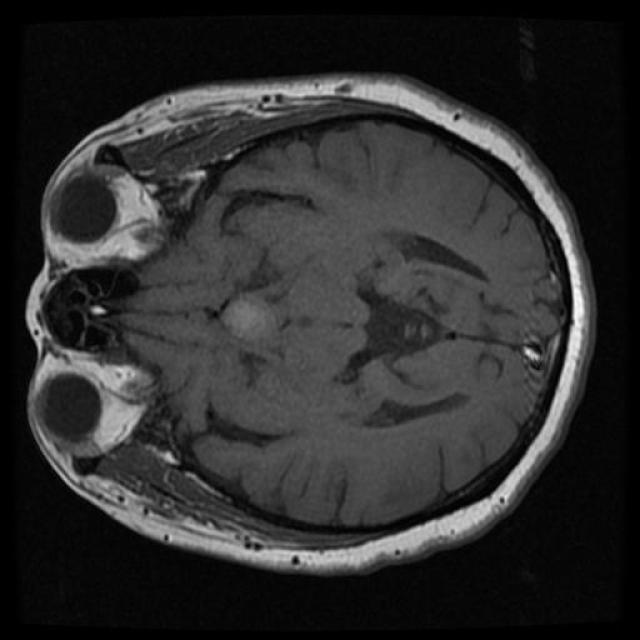Pituitary: (221, 296, 276, 340)
